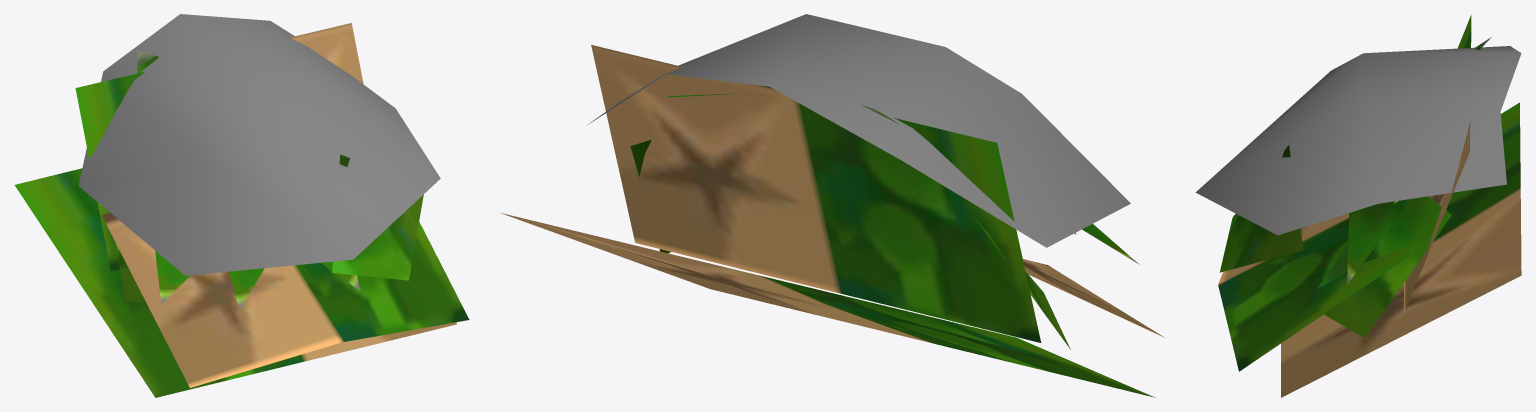
Rendered from fg_bushC_2_s.dae.
3 views of the same model, side by side, from view 1: azimuth 30°, elevation 25°; view 2: azimuth 150°, elevation 25°; view 3: azimuth 270°, elevation 25° (orthographic). The views are drawn at different scales.
Parts seen in each view (by area): view 1: fg_bushC_2_s; view 2: fg_bushC_2_s; view 3: fg_bushC_2_s.
Part boxes in pixels (box(x1,y1,x2,y2)): fg_bushC_2_s: box(14, 14, 469, 397); fg_bushC_2_s: box(501, 14, 1164, 397); fg_bushC_2_s: box(1195, 15, 1521, 397).
Bounding box in the file's own units: 47.83 × 34.27 × 38.04.
Materials: 1 (1 with a texture image).
